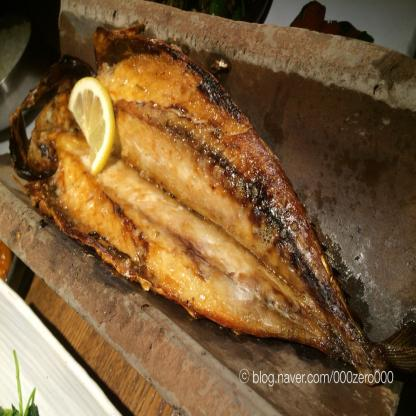Peixe: (9, 29, 401, 391)
